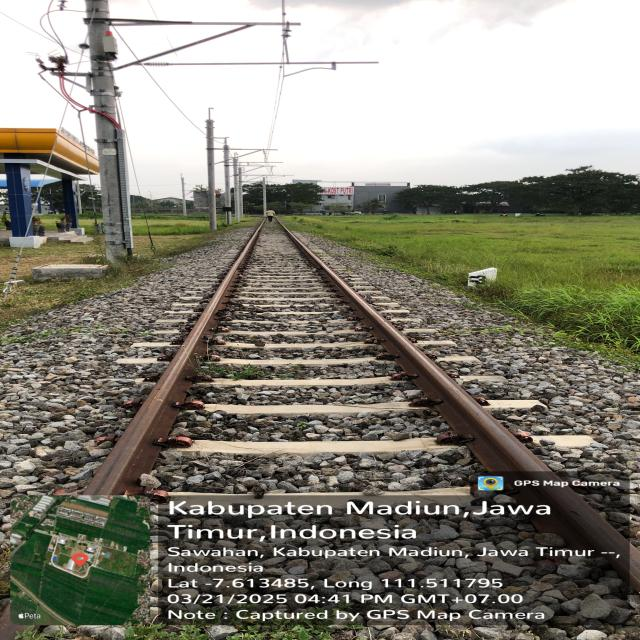rail-detection: (285, 231, 640, 589), (84, 227, 260, 495)
